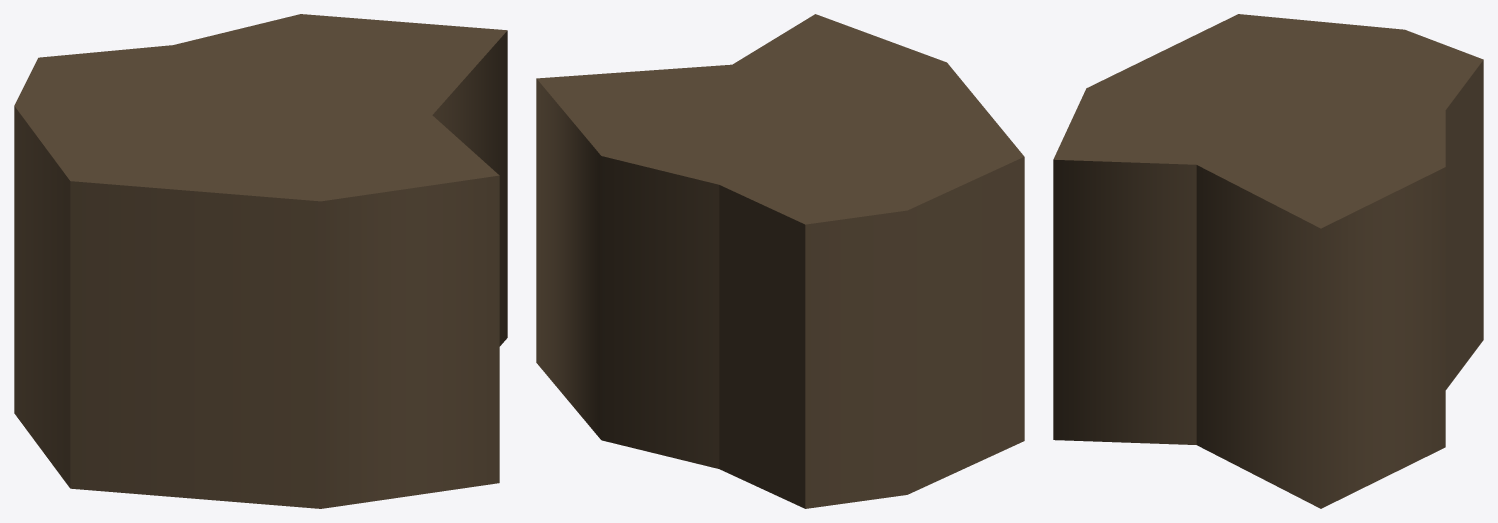
3 views of the same model, side by side, from view 1: azimuth 30°, elevation 25°; view 2: azimuth 150°, elevation 25°; view 3: azimuth 270°, elevation 25° (orthographic). The views are drawn at different scales.
Visible parts, largest first — view 1: Box001; view 2: Box001; view 3: Box001.
Part boxes in pixels (x1=…): Box001: x1=14, y1=14, x2=507, y2=508; Box001: x1=536, y1=14, x2=1024, y2=508; Box001: x1=1053, y1=14, x2=1483, y2=508.
Size of the model in its own units: 58.03 by 35.34 by 49.17.
